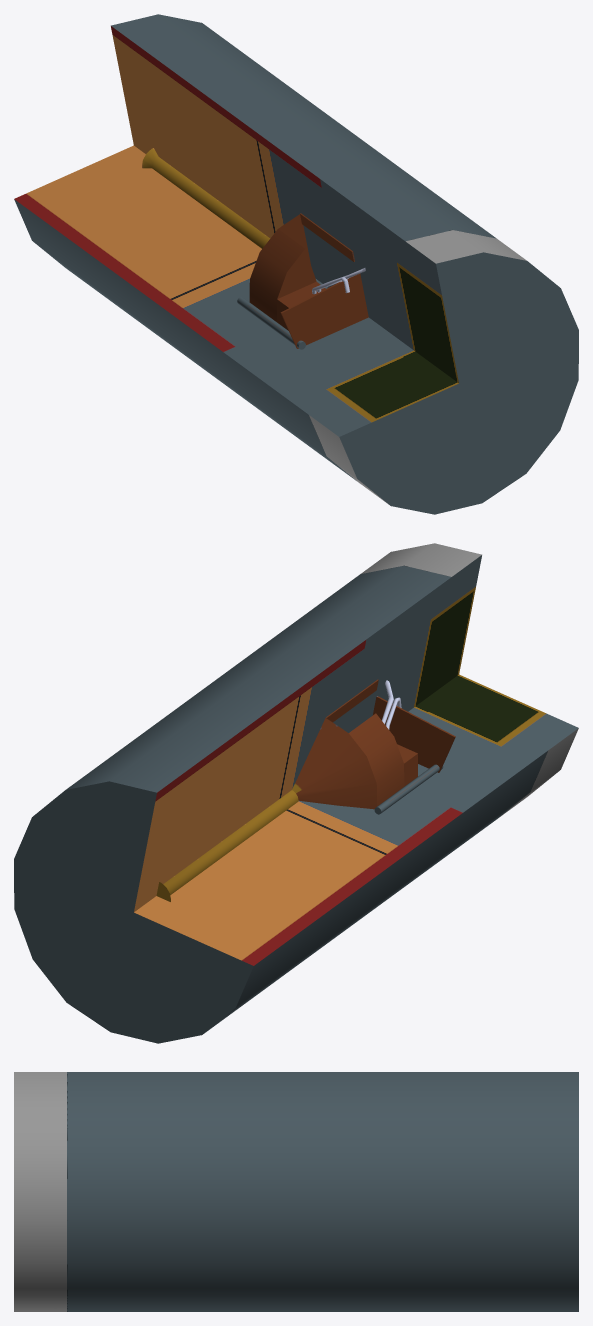
File: ЗУР-БЧиВзрыватель_Р.fbx
The picture shows the model from 3 angles, top to bottom: view 1: azimuth 30°, elevation 25°; view 2: azimuth 150°, elevation 25°; view 3: azimuth 270°, elevation 25°; orthographic projection. The views are drawn at different scales.
Visible parts, largest first — view 1: Circle.018; view 2: Circle.018; view 3: Circle.018.
Part boxes in pixels (bbox=[...]): Circle.018: bbox=[14, 14, 578, 514]; Circle.018: bbox=[14, 543, 578, 1043]; Circle.018: bbox=[14, 1072, 578, 1311].
Size of the model in its own units: 58.3 by 58.31 by 137.
2 materials, 1 textured.
